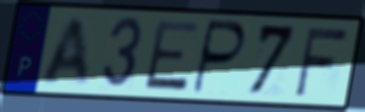3: (98, 14, 144, 93)
7: (245, 22, 299, 97)
A: (39, 16, 91, 87)
E: (142, 19, 203, 94)
F: (292, 25, 351, 98)
P: (190, 18, 249, 97)
